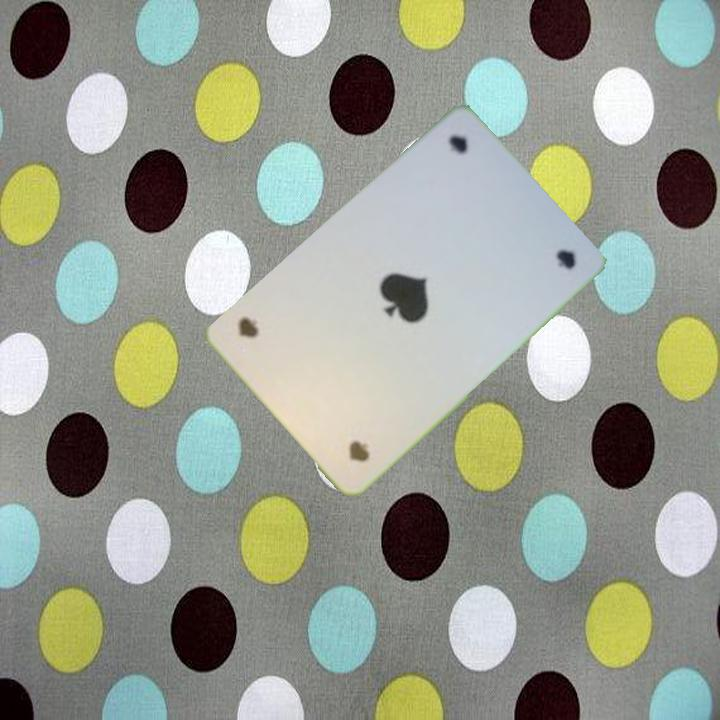s_a.png: (398, 122, 527, 252), (286, 350, 414, 479)
